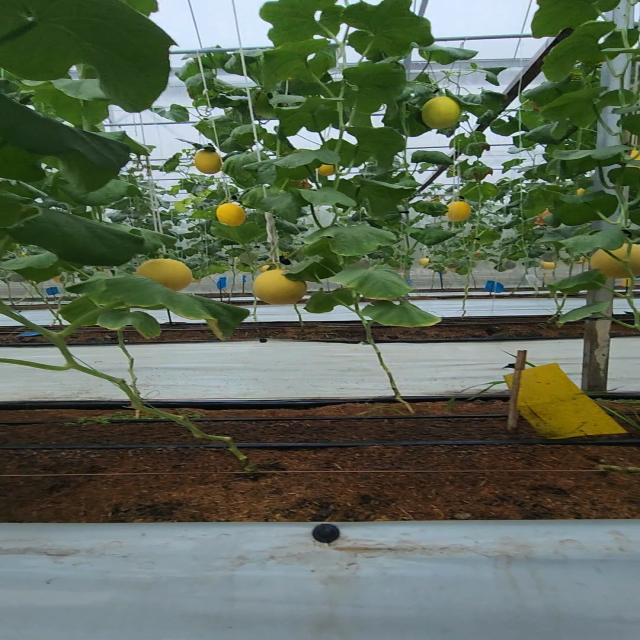Rear-melon: (254, 270, 308, 304), (140, 260, 192, 284), (428, 100, 462, 130), (212, 202, 249, 226), (192, 150, 221, 171), (445, 202, 470, 220)
